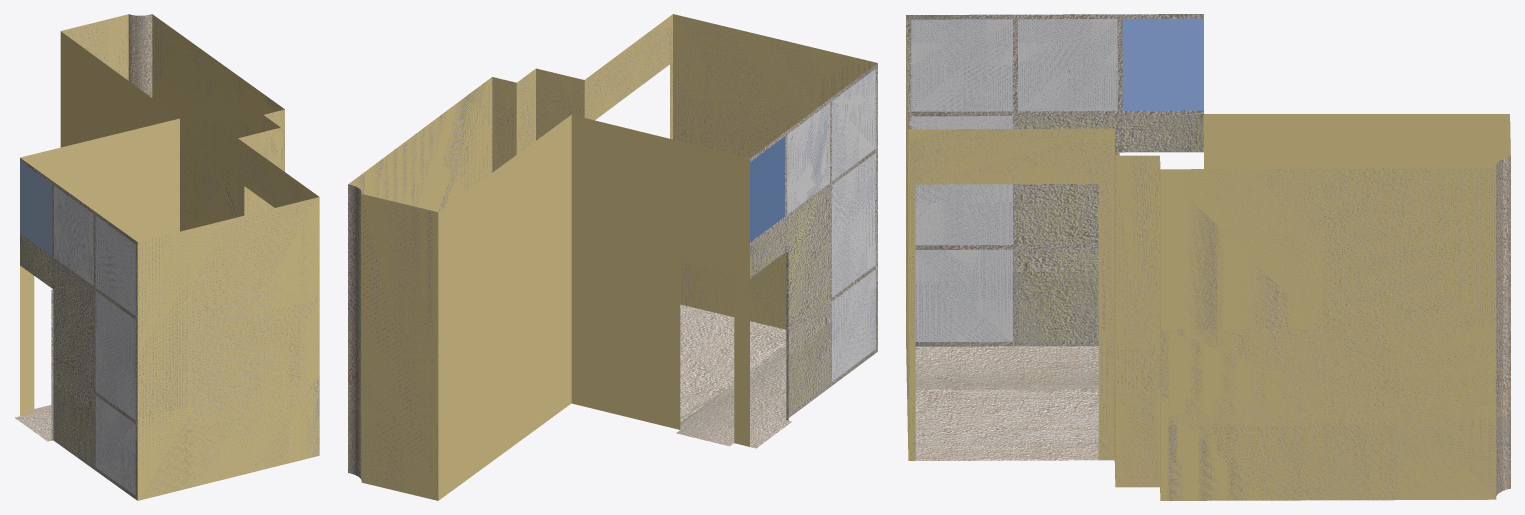
The model's file is COM025.obj.
3 views of the same model, side by side, from view 1: azimuth 30°, elevation 25°; view 2: azimuth 150°, elevation 25°; view 3: azimuth 270°, elevation 25° (orthographic). The views are drawn at different scales.
Visible parts, largest first — view 1: Mesh1 COM025 Model; view 2: Mesh1 COM025 Model; view 3: Mesh1 COM025 Model.
Part boxes in pixels (bbox=[...]): Mesh1 COM025 Model: bbox=[15, 14, 319, 500]; Mesh1 COM025 Model: bbox=[348, 14, 877, 500]; Mesh1 COM025 Model: bbox=[906, 14, 1510, 500].
Bounding box in the file's own units: 3.69 × 3.6 × 5.95.
Materials: 8 (2 with a texture image).
